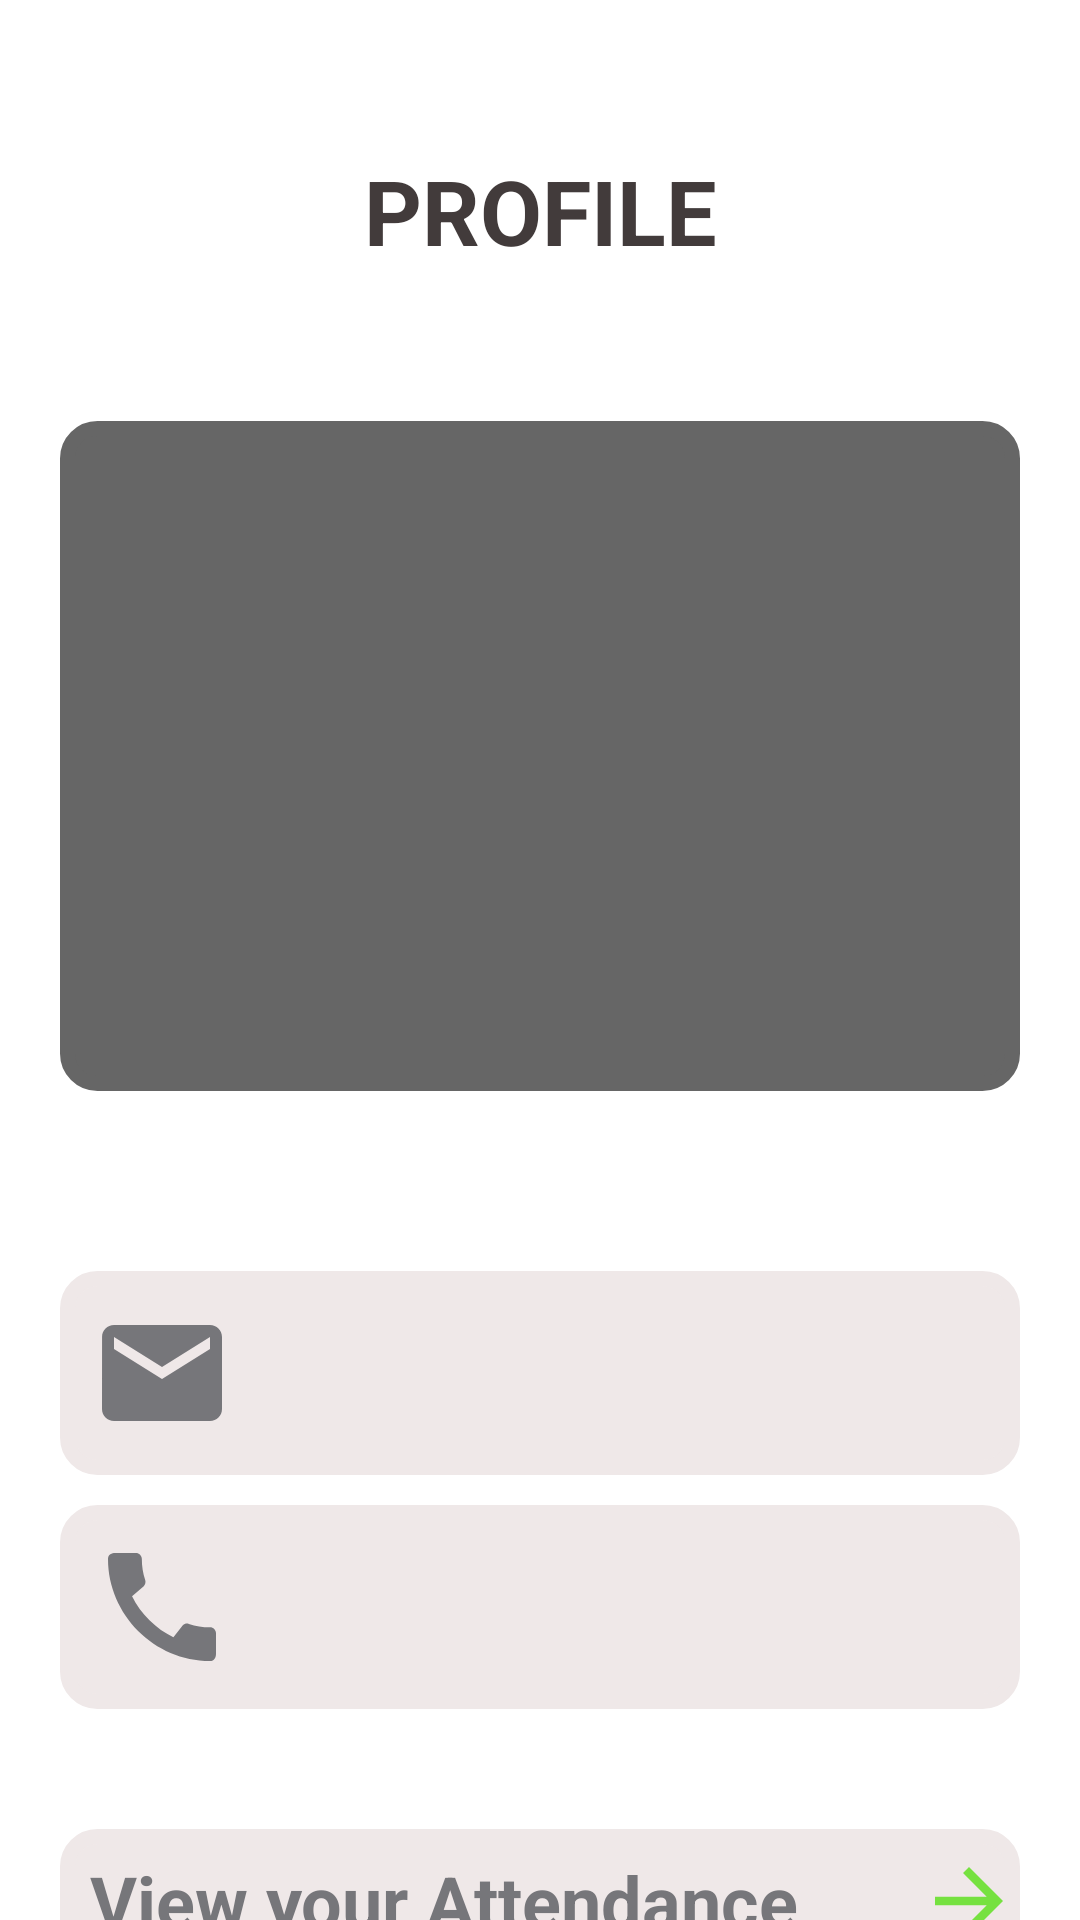

Where to tap for icons on this 1080px×1920px app screen, as (x=x, y=y):
call: (x=162, y=1607)
mail: (x=162, y=1373)
